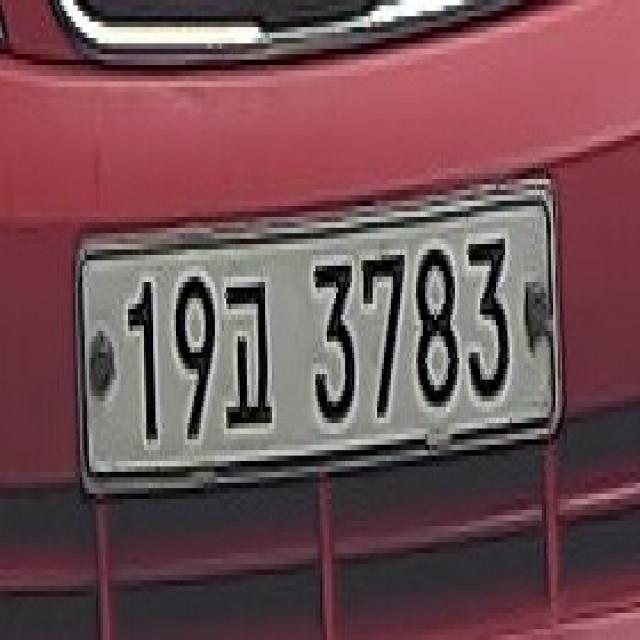1: (124, 260, 164, 461)
3: (462, 222, 514, 412), (308, 250, 356, 440)
7: (359, 233, 411, 429)
8: (411, 233, 462, 423)
9: (169, 260, 222, 461)
go: (219, 260, 279, 445)
license_plate: (69, 163, 572, 515)
